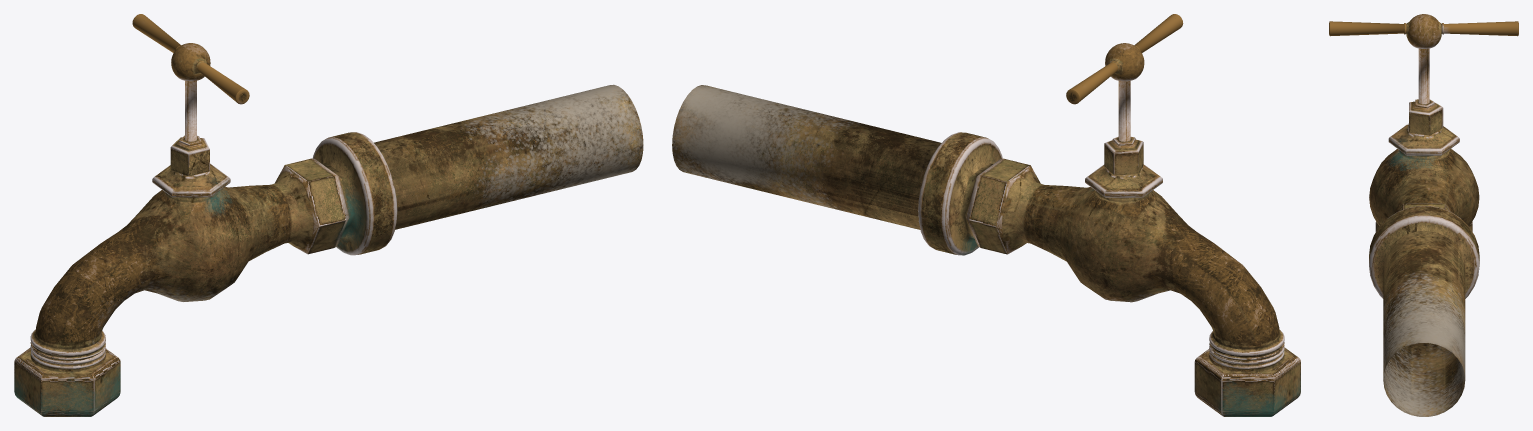
The model's file is garden_water.glb.
3 renders of one model, left to right at view 1: azimuth 30°, elevation 25°; view 2: azimuth 150°, elevation 25°; view 3: azimuth 270°, elevation 25°, orthographic. The views are drawn at different scales.
Visible parts, largest first — view 1: WaterPipe; view 2: WaterPipe; view 3: WaterPipe.
Part boxes in pixels (box(x1,y1,x2,y2)): WaterPipe: box(14, 14, 643, 416); WaterPipe: box(672, 14, 1300, 416); WaterPipe: box(1329, 14, 1518, 416).
Size of the model in its own units: 0.6554 by 0.3452 by 0.1989.
1 material, 1 textured.
